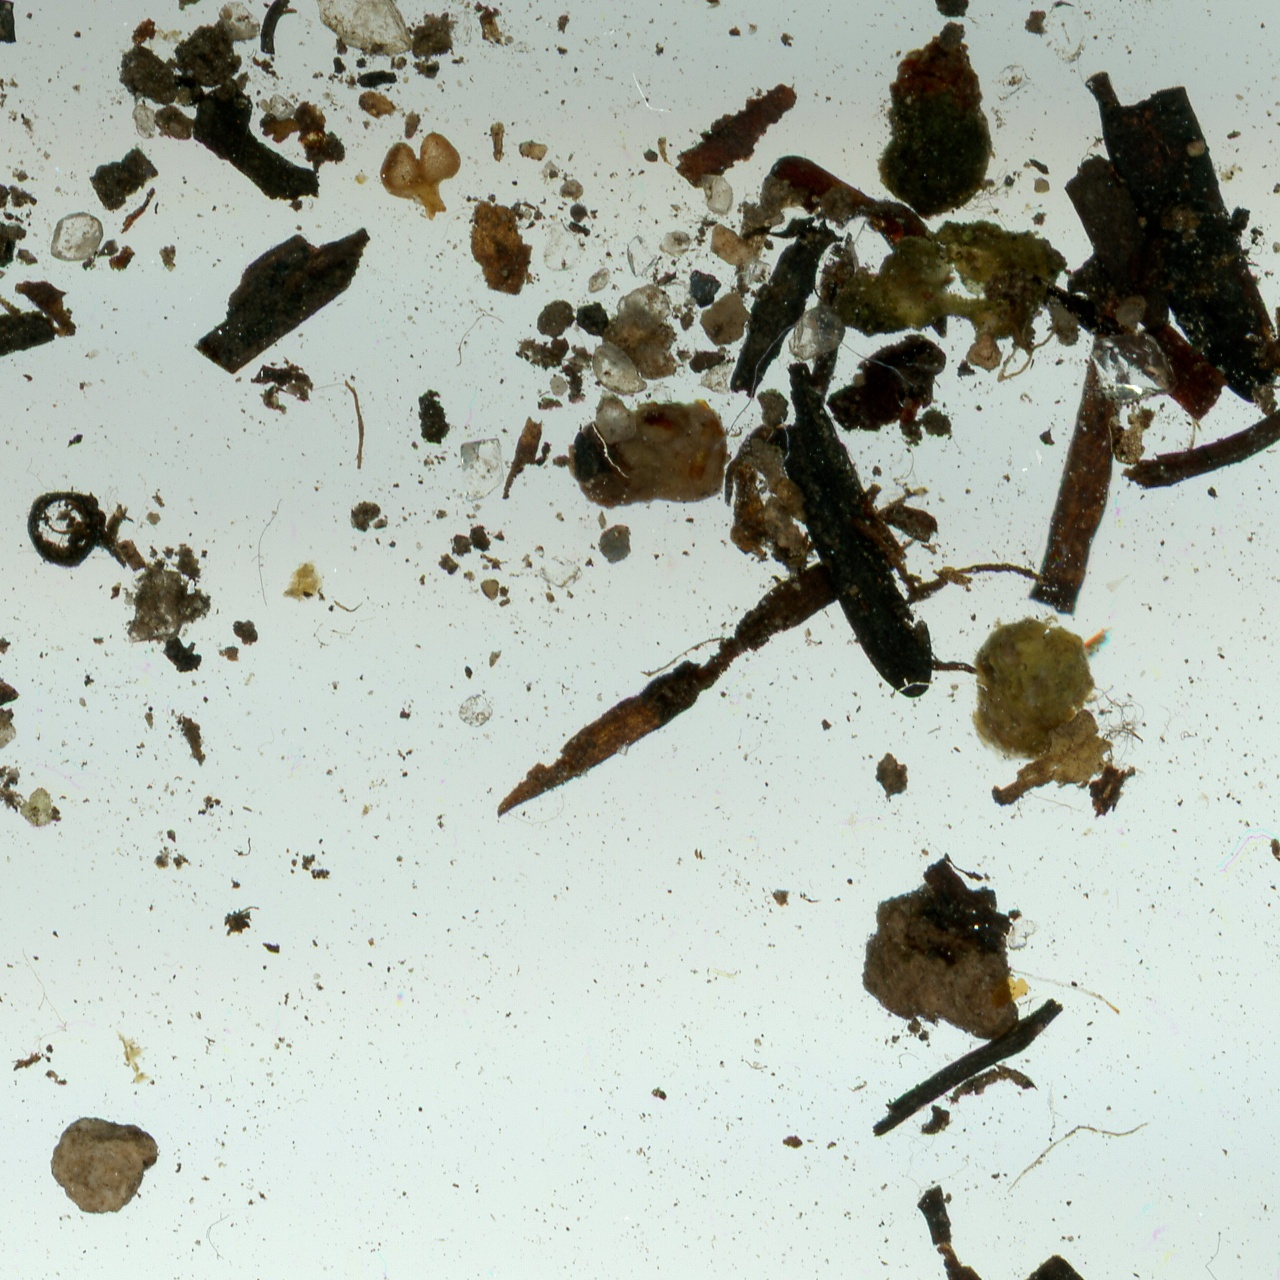arthropod: (845, 1077, 871, 1094)
